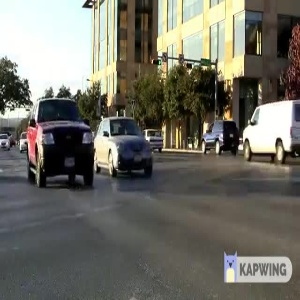car: (92, 112, 154, 174)
suv: (19, 96, 99, 188), (193, 115, 245, 155)
van: (240, 95, 300, 161)
